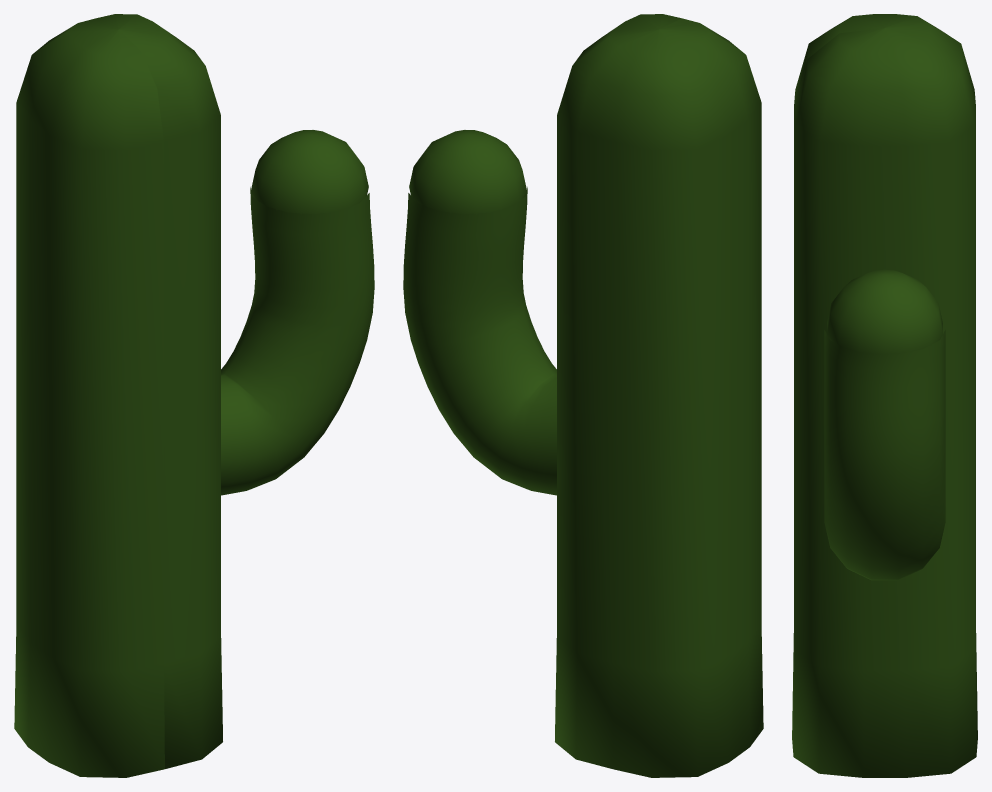
File: cactus_mid.glb
3 views of the same model, side by side, from view 1: azimuth 30°, elevation 25°; view 2: azimuth 150°, elevation 25°; view 3: azimuth 270°, elevation 25° (orthographic).
Visible parts, largest first — view 1: cactus_mid; view 2: cactus_mid; view 3: cactus_mid.
Boxes of the visible parts, x1=… form: cactus_mid: x1=14, y1=14, x2=374, y2=777; cactus_mid: x1=403, y1=14, x2=763, y2=777; cactus_mid: x1=792, y1=14, x2=977, y2=777.
Size of the model in its own units: 1.16 by 2.4 by 0.5692.
